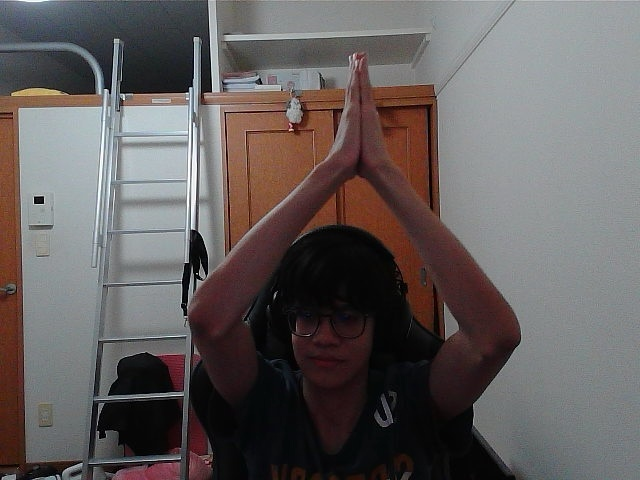pray: (352, 58, 362, 155)
